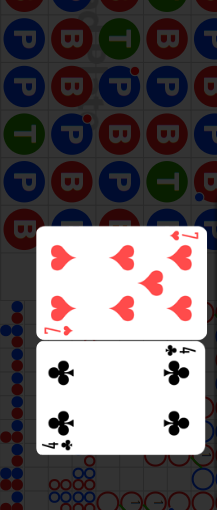4C: (42, 437, 75, 451)
7H: (44, 323, 75, 336)
